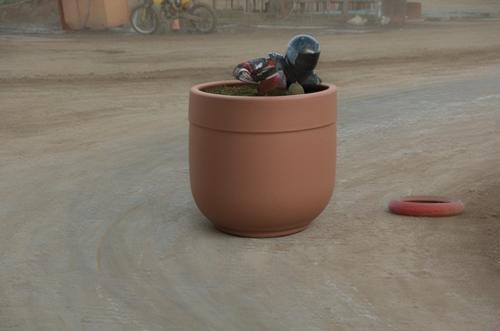motorbike: (130, 1, 217, 35)
person: (194, 35, 334, 226)
person/foot: (263, 200, 299, 226), (194, 164, 208, 186)
person/hand: (320, 132, 334, 153), (239, 74, 251, 89)
person/head: (284, 34, 321, 78)
pottedplant: (189, 79, 336, 237)
